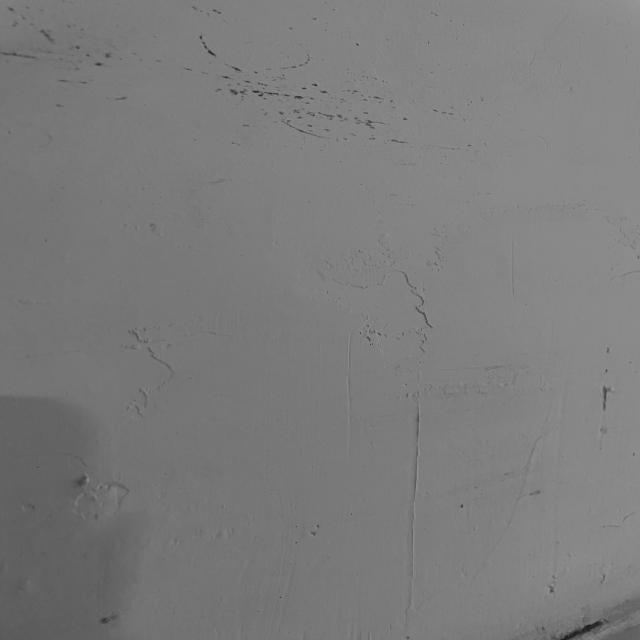rough and patchy surface: (45, 222, 640, 631)
stain marks: (0, 5, 468, 148)
